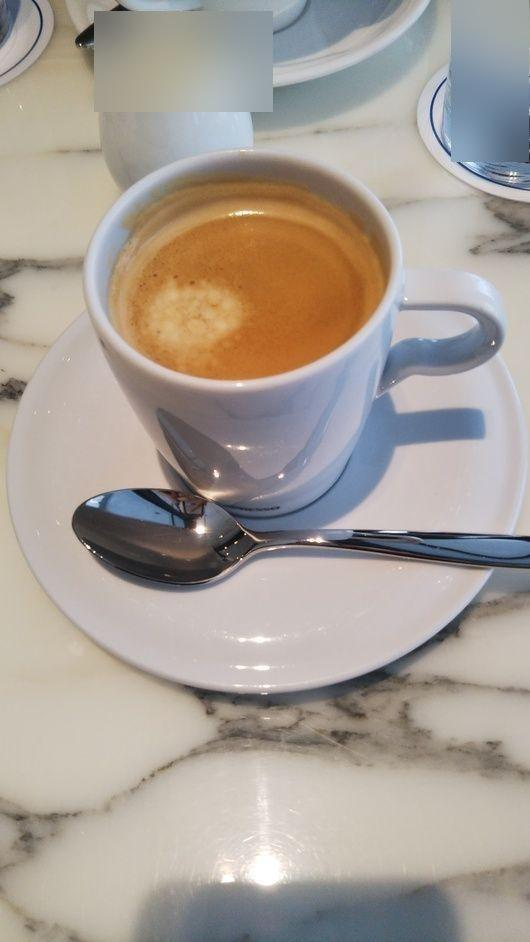cup-handle: (79, 146, 508, 518)
